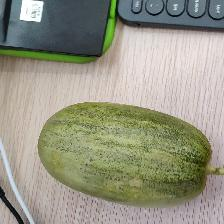gua: (37, 99, 209, 207)
